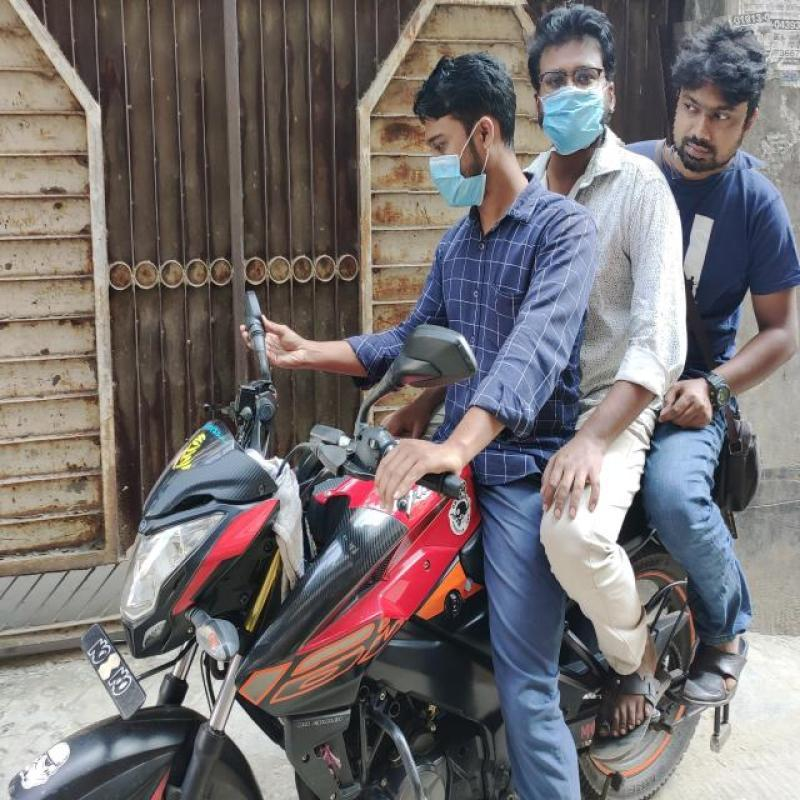nohelmet: (655, 13, 786, 176), (406, 43, 528, 205), (523, 0, 622, 150)
